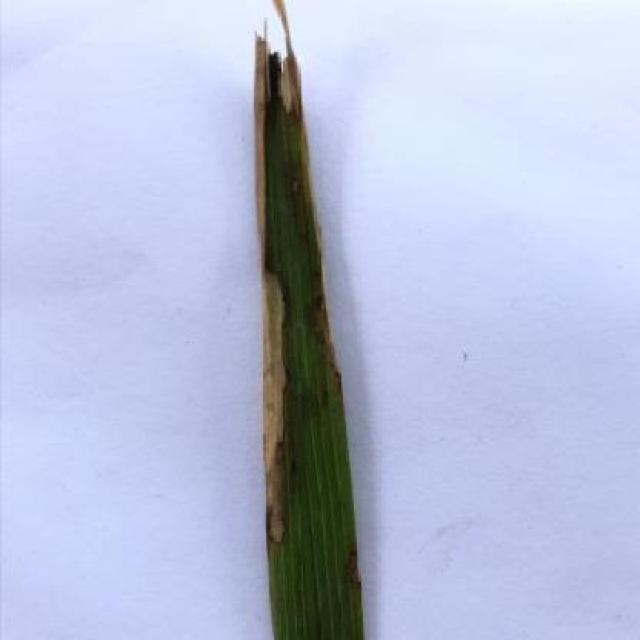Brown_Spot: (242, 0, 372, 640)
